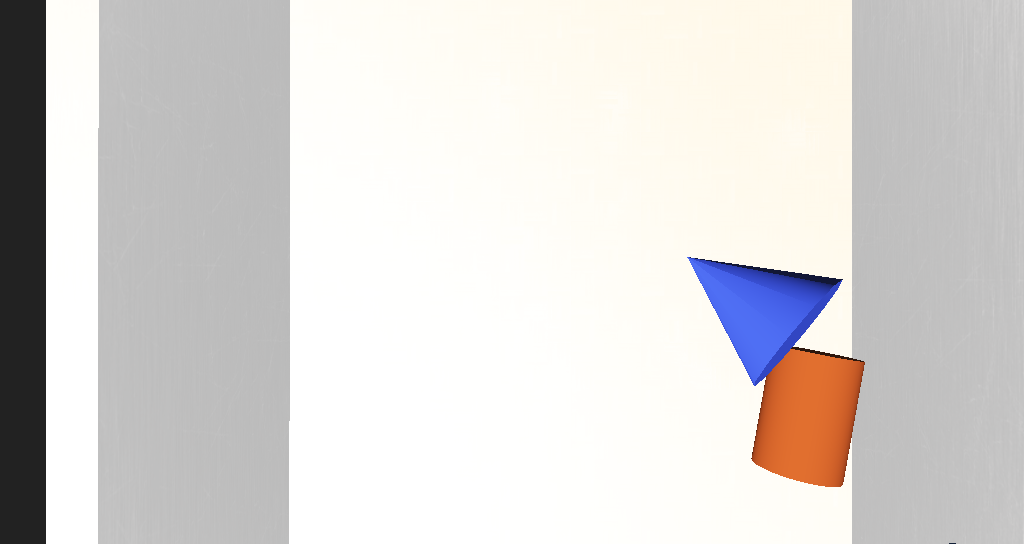cone: (593, 291, 660, 348)
cylinder: (536, 243, 650, 310)
sphere: (623, 351, 697, 403)
